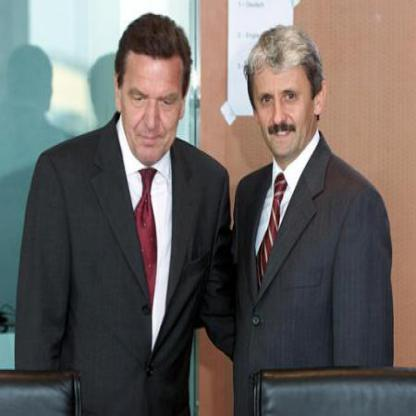face: (123, 20, 184, 165), (255, 31, 316, 161)
